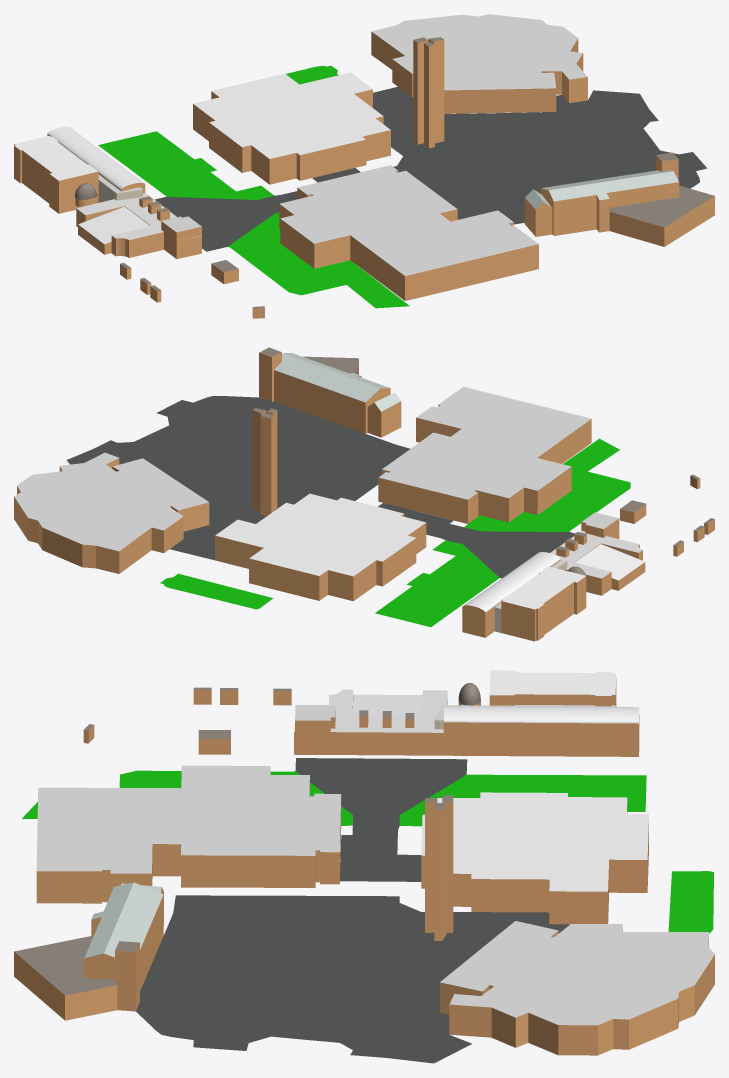
The model's file is building.fbx.
3 views of the same model, one above another, from view 1: azimuth 30°, elevation 25°; view 2: azimuth 150°, elevation 25°; view 3: azimuth 270°, elevation 25° (orthographic). The views are drawn at different scales.
Visible parts, largest first — view 1: map.osm_buildings, map.osm_areas_pedestrian, map.osm_vegetation; view 2: map.osm_buildings, map.osm_areas_pedestrian, map.osm_vegetation; view 3: map.osm_buildings, map.osm_areas_pedestrian, map.osm_vegetation.
Boxes of the visible parts, x1,y1,x2,y2 form: map.osm_buildings: [14, 14, 714, 318]; map.osm_areas_pedestrian: [154, 86, 707, 251]; map.osm_vegetation: [98, 65, 409, 308]; map.osm_buildings: [14, 347, 714, 641]; map.osm_areas_pedestrian: [66, 396, 574, 578]; map.osm_vegetation: [160, 438, 630, 627]; map.osm_buildings: [14, 670, 714, 1055]; map.osm_areas_pedestrian: [136, 758, 569, 1063]; map.osm_vegetation: [22, 770, 713, 933].
Bounding box in the file's own units: 24875 × 4200 × 20388.
